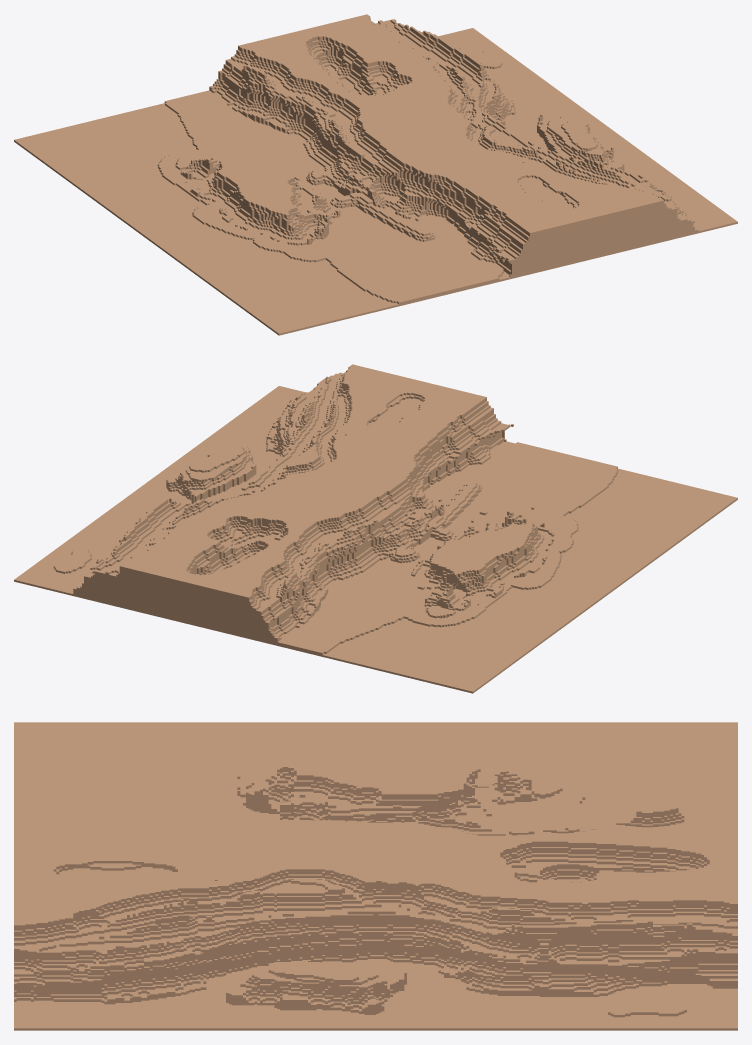
File: groundBorder_01.vox.obj
3 views of the same model, one above another, from view 1: azimuth 30°, elevation 25°; view 2: azimuth 150°, elevation 25°; view 3: azimuth 270°, elevation 25° (orthographic). The views are drawn at different scales.
Bounding box in the file's own units: 25.6 × 2.2 × 25.6.
Materials: 1 (1 with a texture image).
